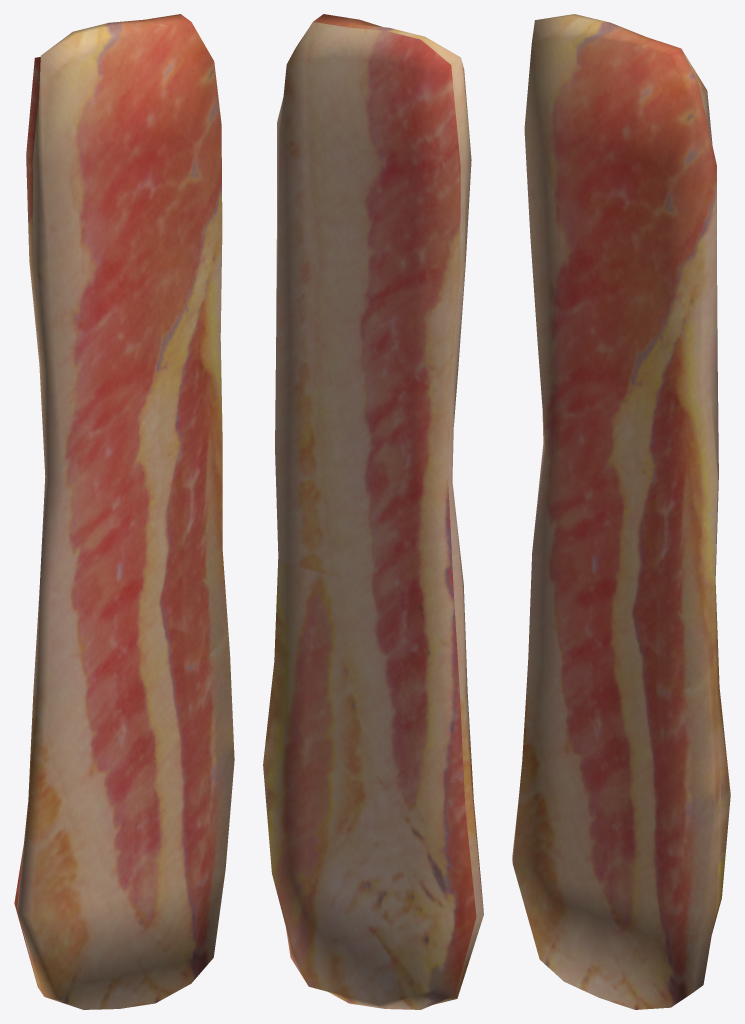
Rendered from bacon.fbx.
The picture shows the model from 3 angles, left to right: view 1: azimuth 30°, elevation 25°; view 2: azimuth 150°, elevation 25°; view 3: azimuth 330°, elevation 25°; orthographic projection.
Parts seen in each view (by area): view 1: Cube; view 2: Cube; view 3: Cube.
Boxes of the visible parts, left/top/right/bottom form: Cube: left=14, top=14, right=234, bottom=1009; Cube: left=263, top=14, right=483, bottom=1009; Cube: left=512, top=14, right=730, bottom=1009.
Size of the model in its own units: 0.4591 by 2.05 by 0.0856.
1 material, 1 textured.
